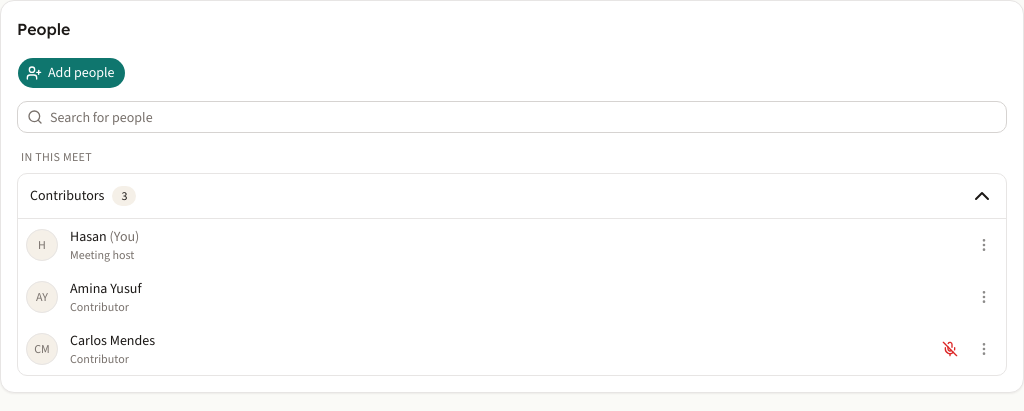
it: PeoplePanel › collapses the participant group
The width and height of the screenshot is (1024, 411).
Click the button "Contributors 3": click(67, 196) [18, 174, 1006, 218]
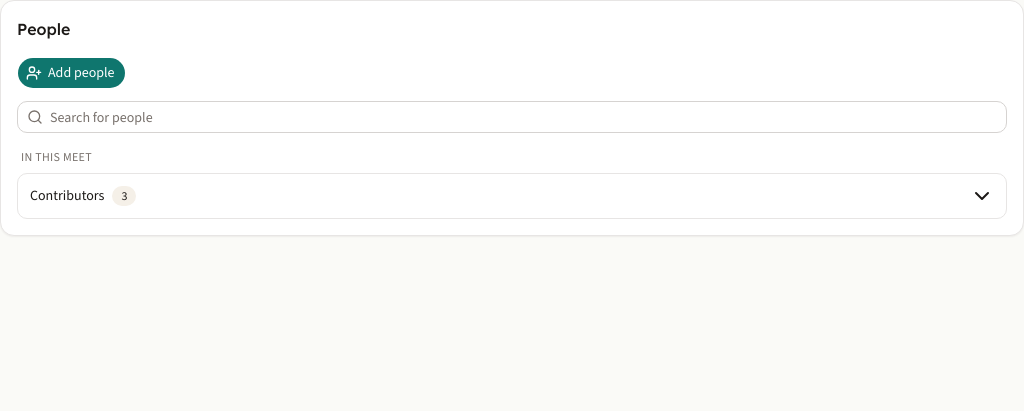
Result: the button "Contributors 3" is collapsed at [18, 174, 1006, 218]
Result: the text "Amina Yusuf" is gone
